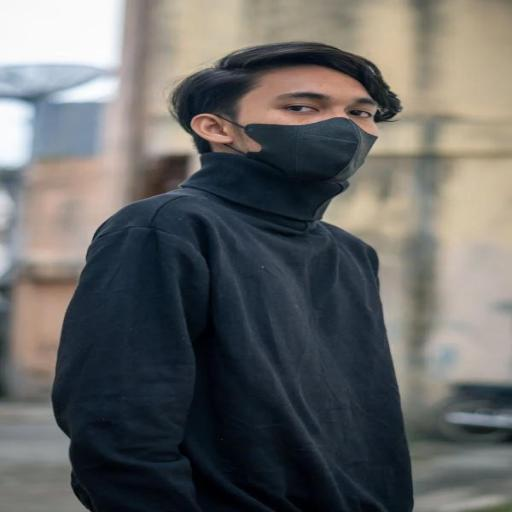mask: (165, 44, 426, 199)
